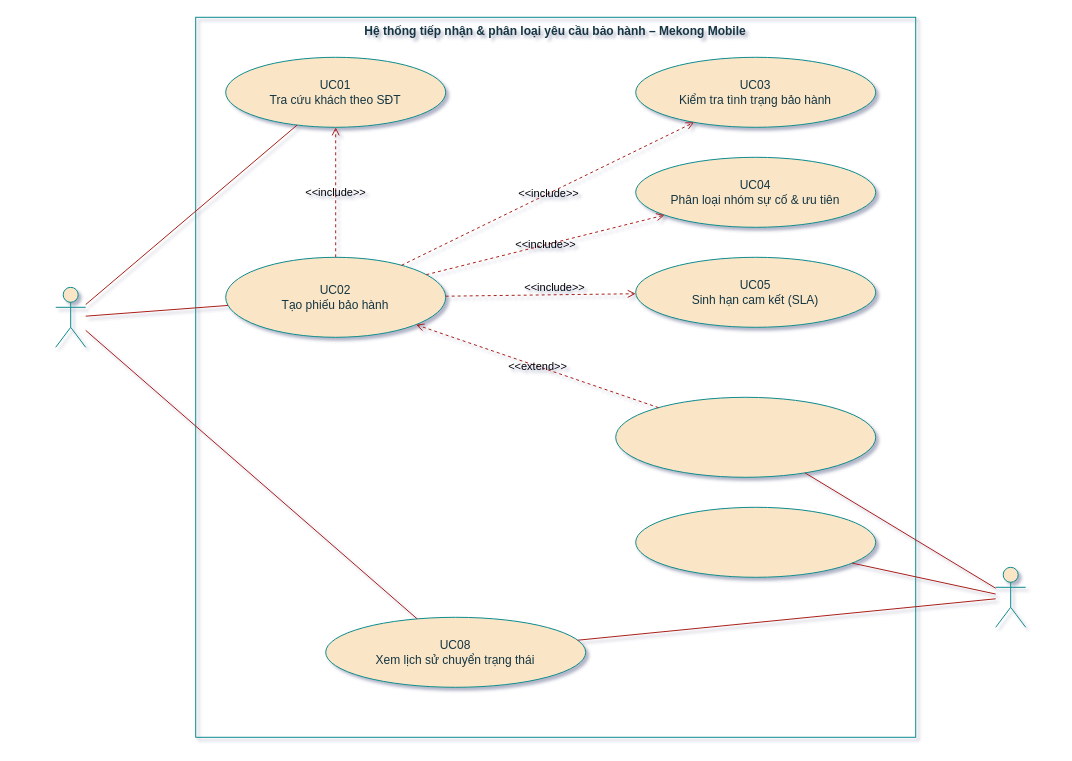
Some shapes in this 1072 by 761 pixel diagram are drawn without their labels. The shapes that lost their labels are listed below. From the top down, each one's centre as x and y in pixels, then its label:
At pixel 70 316: "A1 Nhân viên tiếp nhận".
At pixel 745 436: "UC06 Phê duyệt phiếu chưa xác minh BH".
At pixel 755 541: "UC07 Xem DS phiếu sắp/quá hạn".
At pixel 1010 596: "A2 Quản lý TTBH".
